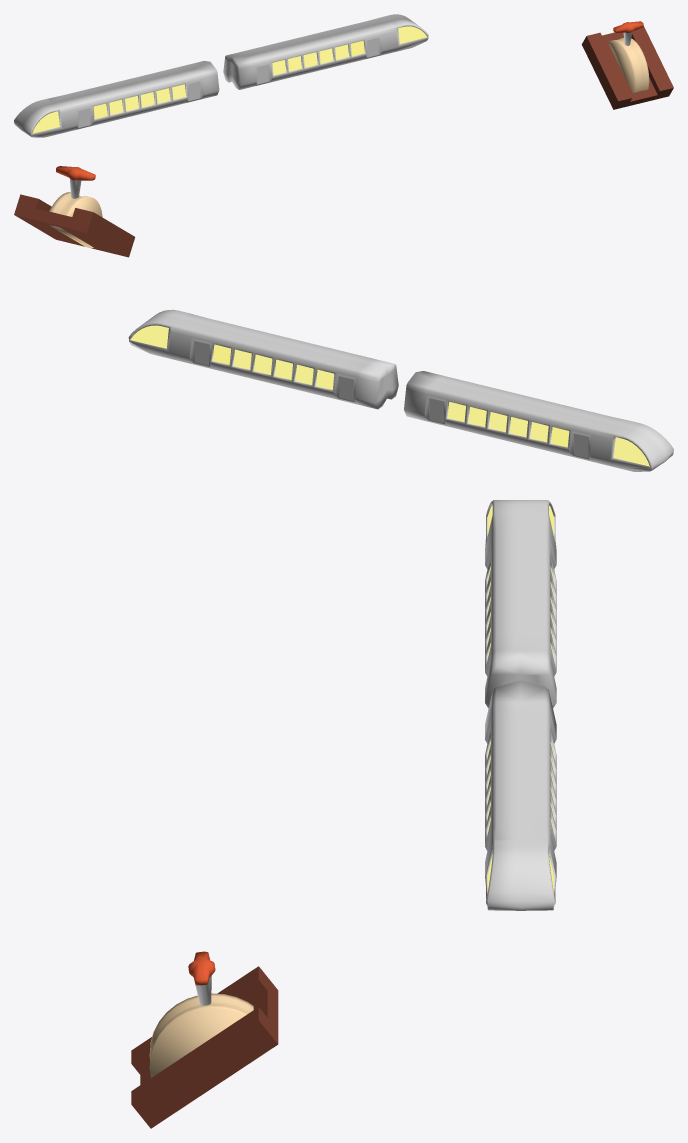
File: Train.glb
The picture shows the model from 3 angles, top to bottom: view 1: azimuth 30°, elevation 25°; view 2: azimuth 150°, elevation 25°; view 3: azimuth 270°, elevation 25°; orthographic projection. The views are drawn at different scales.
Visible parts, largest first — view 1: Train.001, Cube.036, Circle.004, Cylinder.094; view 2: Train.001, Cube.036, Circle.004, Cylinder.094; view 3: Train.001, Cube.036, Circle.004, Cylinder.094.
Boxes of the visible parts, <box> form: Train.001: <box>14,14,428,137</box>; Cube.036: <box>581,26,673,109</box>; Circle.004: <box>608,37,649,93</box>; Cylinder.094: <box>613,21,643,45</box>; Train.001: <box>128,309,673,471</box>; Cube.036: <box>14,194,135,257</box>; Circle.004: <box>49,192,102,248</box>; Cylinder.094: <box>56,166,95,198</box>; Train.001: <box>485,500,556,910</box>; Cube.036: <box>131,966,278,1128</box>; Circle.004: <box>149,993,253,1077</box>; Cylinder.094: <box>188,951,215,1005</box>.
Size of the model in its own units: 13.28 by 1.61 by 4.4.
